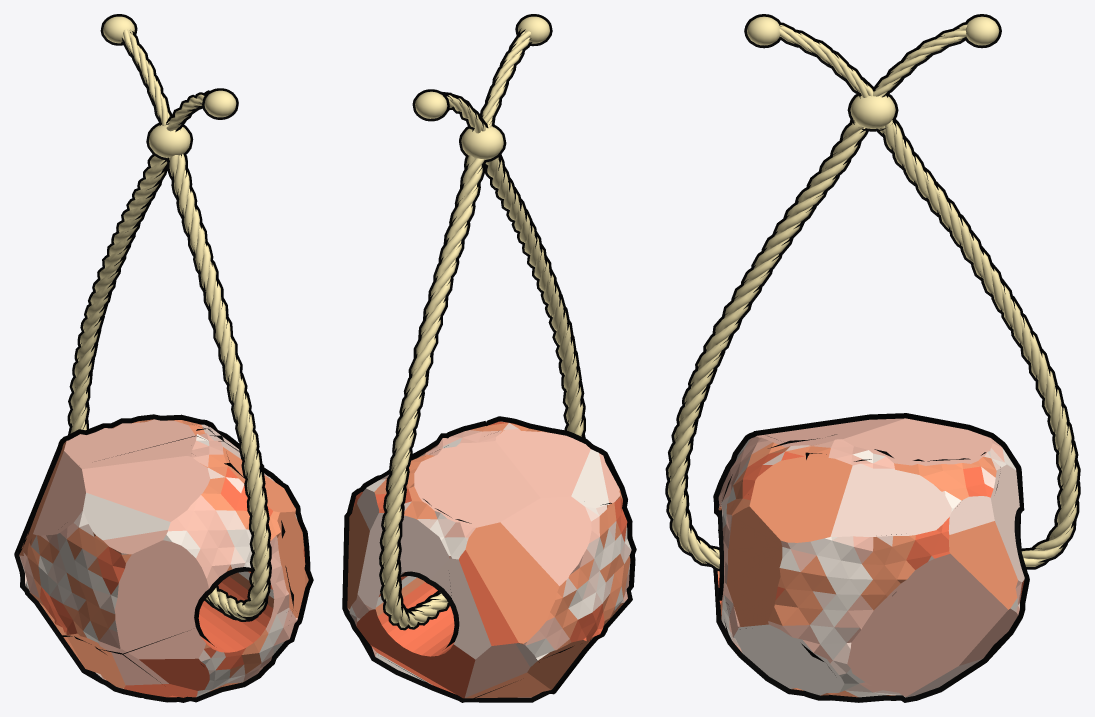
Rendered from leckstein.glb.
3 renders of one model, left to right at view 1: azimuth 30°, elevation 25°; view 2: azimuth 150°, elevation 25°; view 3: azimuth 270°, elevation 25°, orthographic. The views are drawn at different scales.
Visible parts, largest first — view 1: salz, seil; view 2: salz, seil; view 3: salz, seil.
Part boxes in pixels (x1,y1,x2,y2): salz: [14, 414, 313, 702]; seil: [67, 14, 271, 621]; salz: [342, 416, 636, 702]; seil: [379, 14, 585, 630]; salz: [713, 413, 1029, 702]; seil: [665, 14, 1080, 571].
Size of the model in its own units: 15.42 by 40.66 by 22.88.
